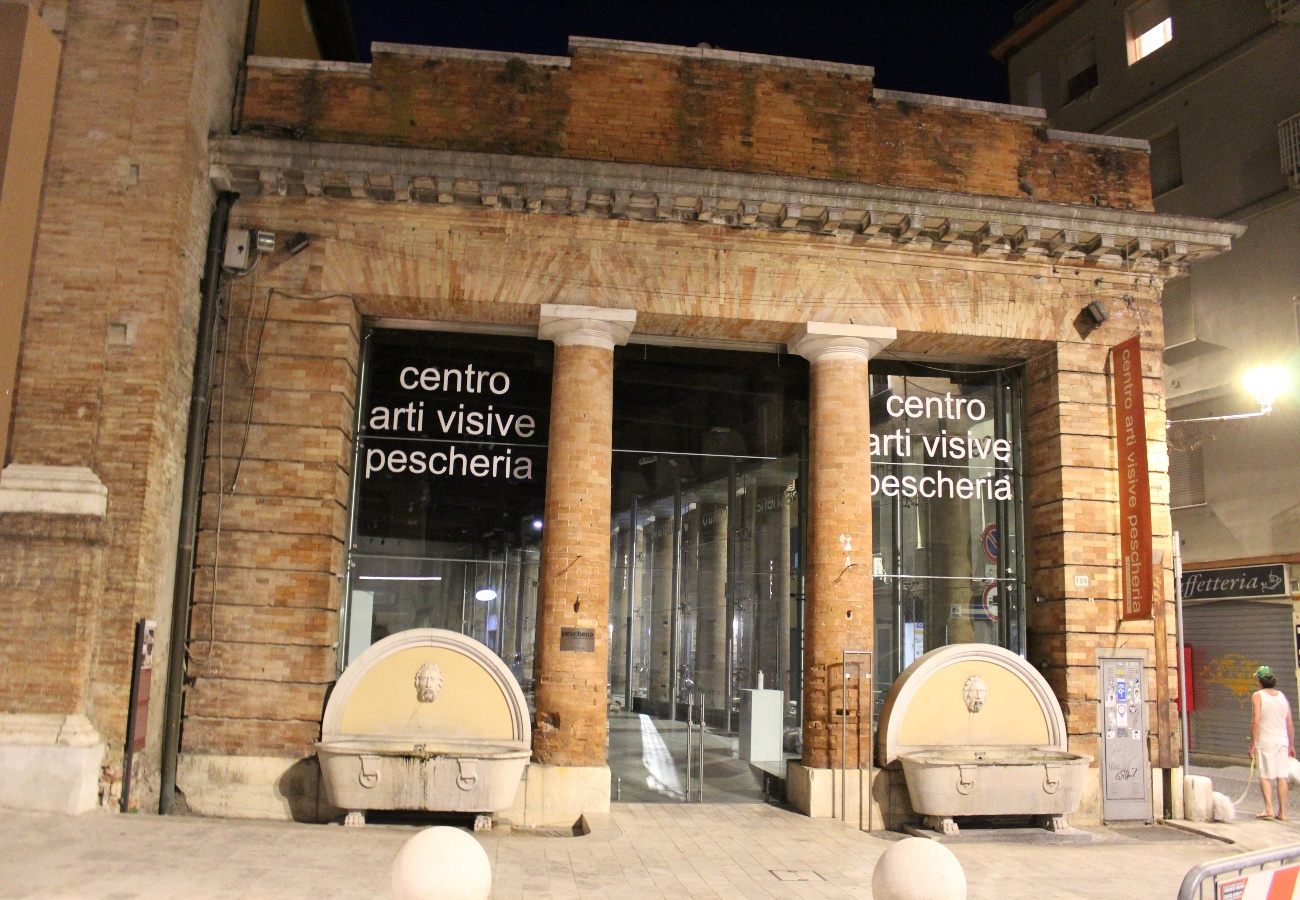Centro Arti Visive Pescheria: (132, 37, 1247, 839)
